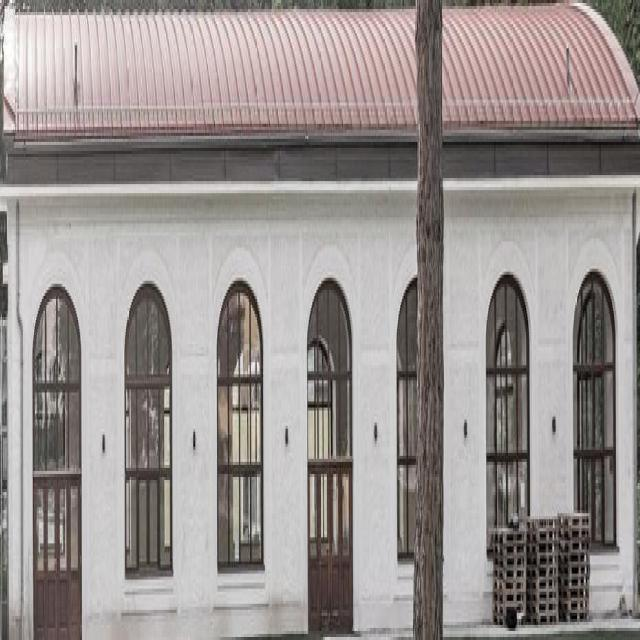door: (34, 286, 81, 637), (308, 280, 351, 637)
window: (125, 279, 172, 568), (218, 292, 263, 565), (572, 274, 616, 547), (487, 270, 529, 530), (397, 269, 417, 561)
